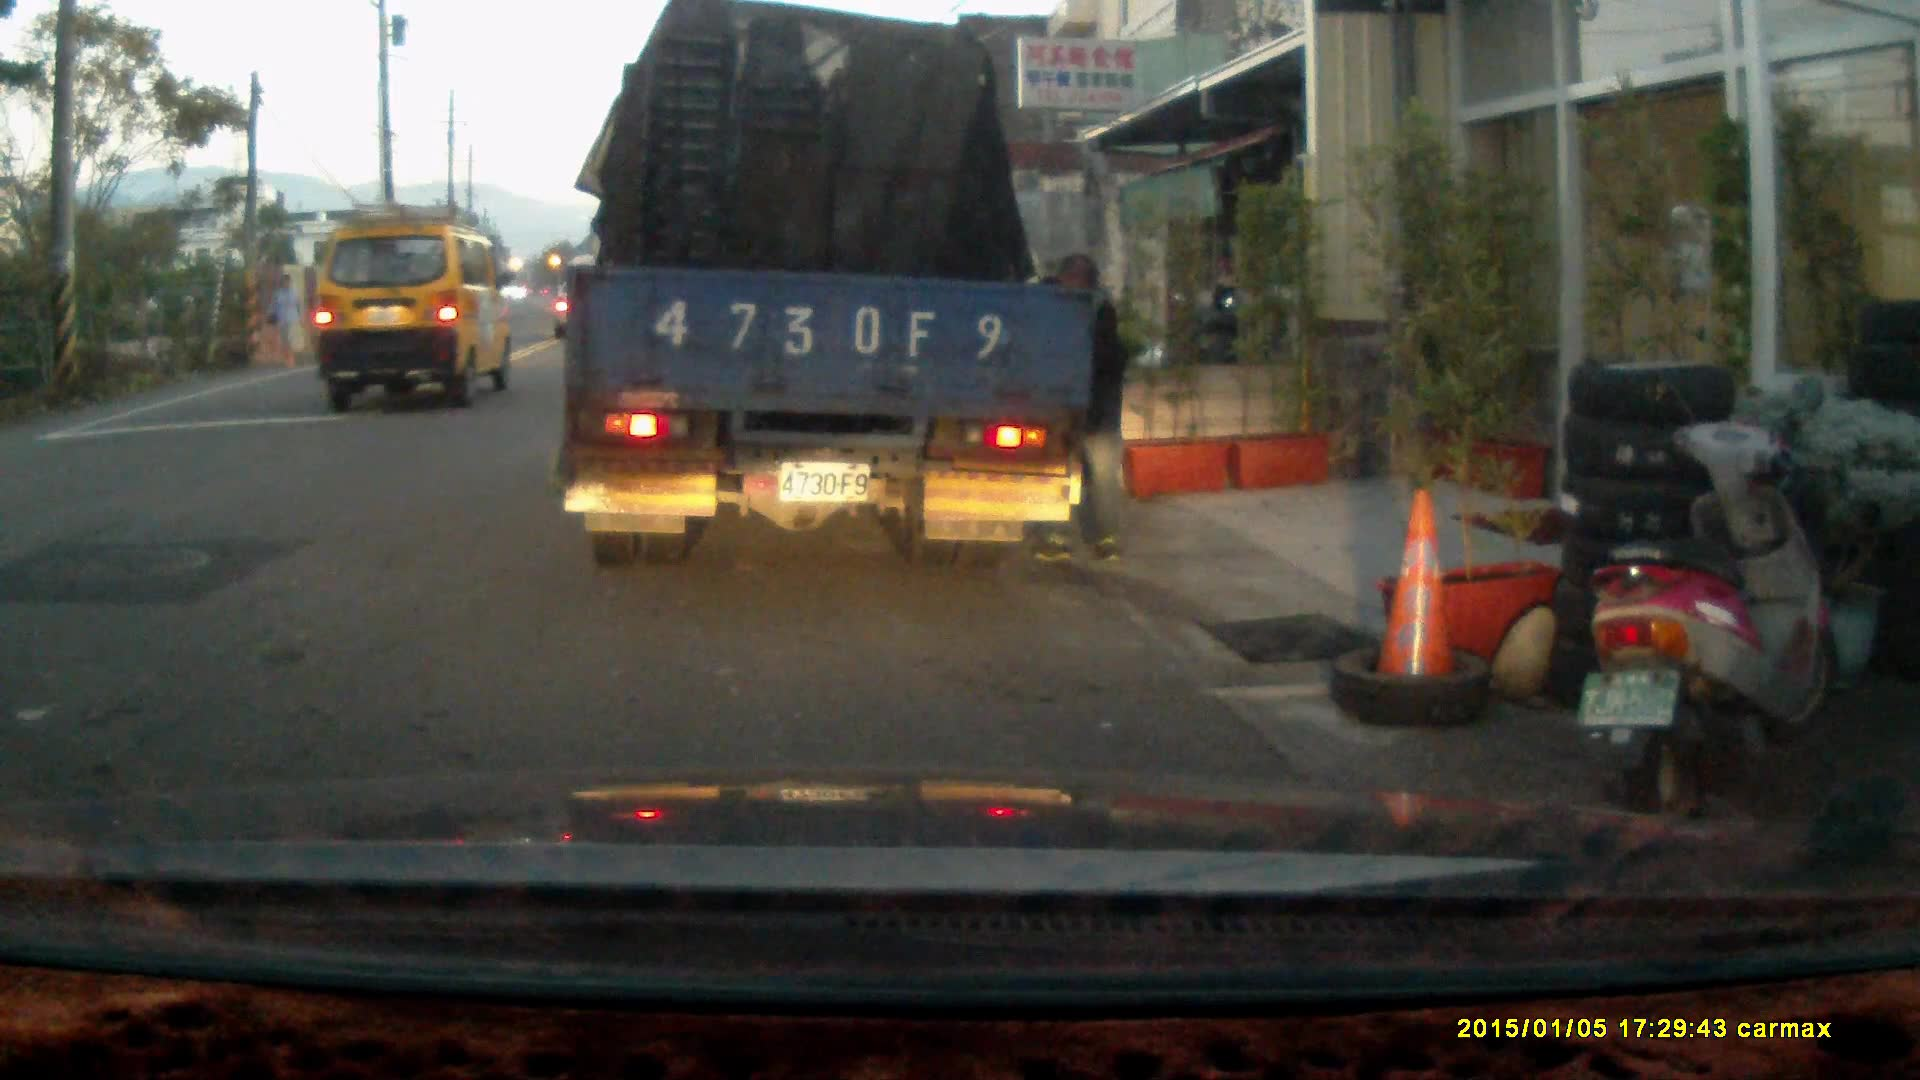pedestrian: (1021, 250, 1128, 567), (263, 276, 302, 368)
vehicle: (564, 24, 1091, 565), (309, 201, 519, 413)
